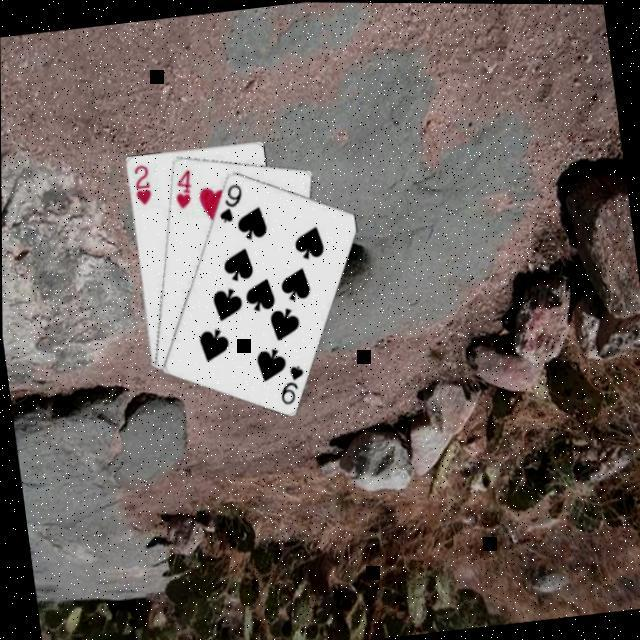2H: (130, 161, 155, 209)
4H: (170, 165, 199, 212)
9S: (274, 361, 311, 409), (213, 181, 249, 226)
